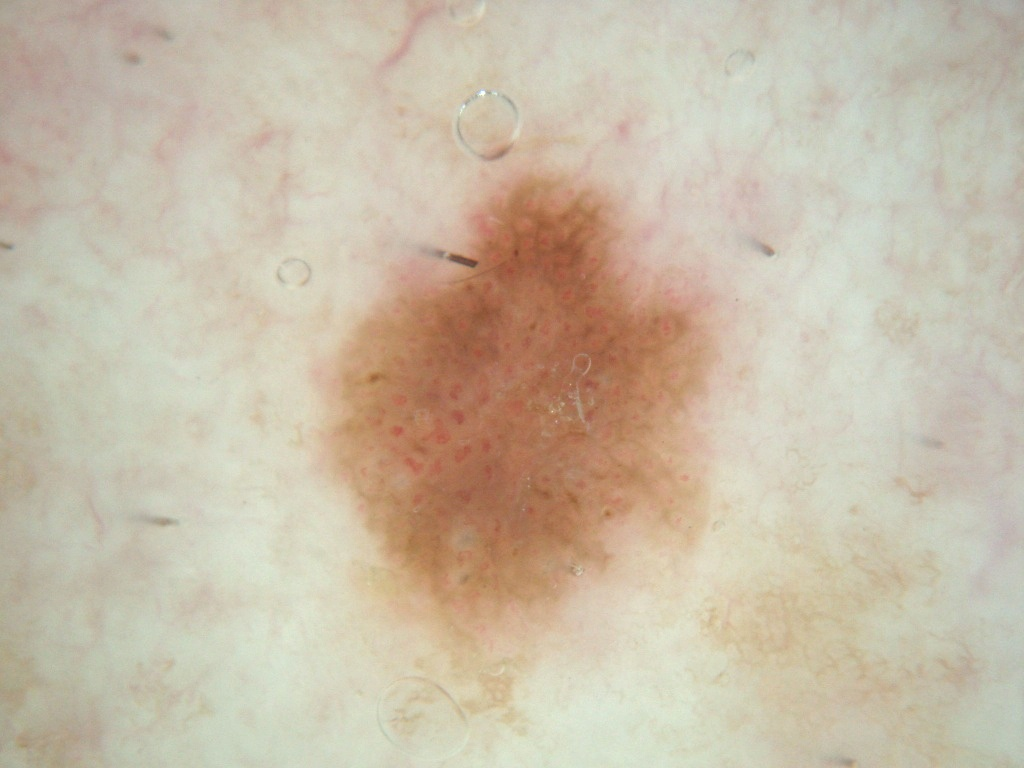Detected Lesion: (320, 168, 718, 671)
